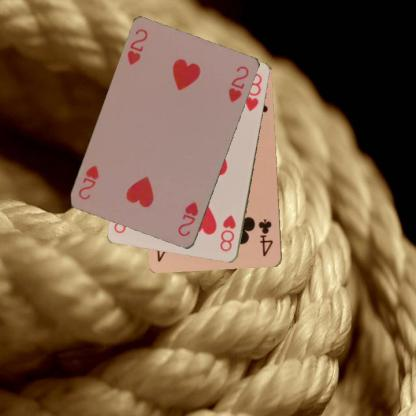2h: (175, 199, 201, 238), (125, 26, 149, 66)
4c: (256, 216, 274, 258)
8h: (218, 213, 238, 253)
